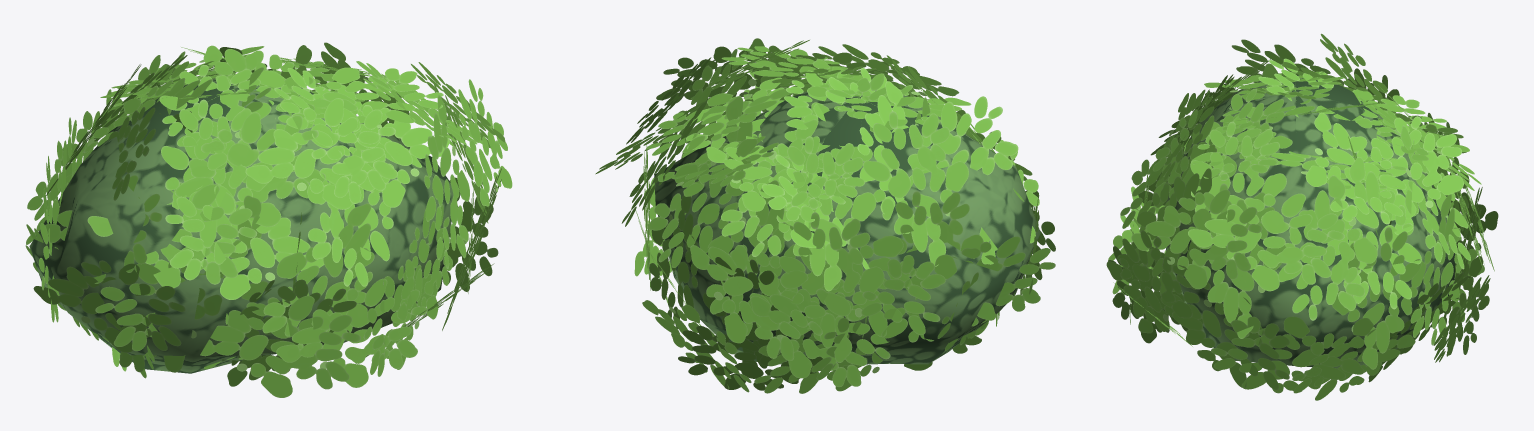
File: bush.fbx
3 renders of one model, left to right at view 1: azimuth 30°, elevation 25°; view 2: azimuth 150°, elevation 25°; view 3: azimuth 270°, elevation 25°, orthographic. The views are drawn at different scales.
Visible parts, largest first — view 1: Object008, Sphere002; view 2: Object008, Sphere002; view 3: Object008, Sphere002.
Part boxes in pixels (x1,y1,x2,y2): Object008: [25, 42, 512, 397]; Sphere002: [29, 78, 453, 373]; Object008: [595, 38, 1055, 393]; Sphere002: [654, 90, 1040, 364]; Object008: [1106, 33, 1498, 400]; Sphere002: [1164, 75, 1455, 368].
Bounding box in the file's own units: 234 × 200 × 156.
Materials: 2 (2 with a texture image).
